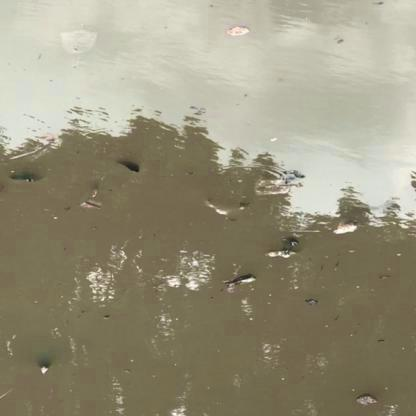Trash: (352, 393, 382, 410), (222, 23, 253, 39)
